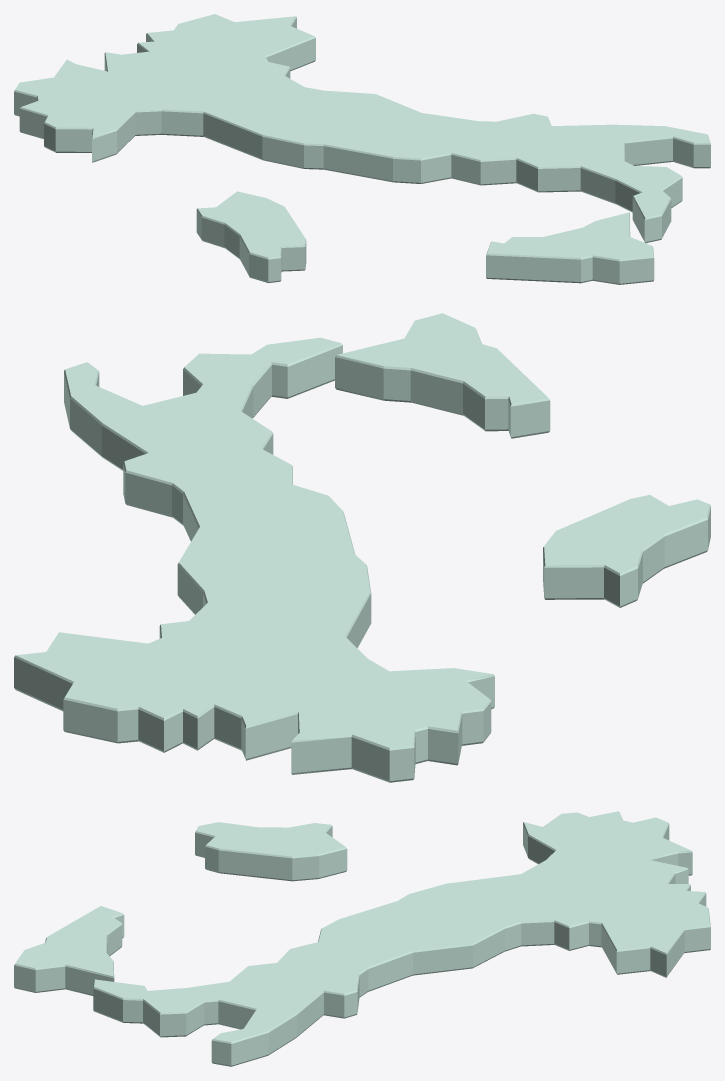
File: ITA.glb
The picture shows the model from 3 angles, top to bottom: view 1: azimuth 30°, elevation 25°; view 2: azimuth 150°, elevation 25°; view 3: azimuth 270°, elevation 25°; orthographic projection. The views are drawn at different scales.
Size of the model in its own units: 1.37 by 0.068 by 1.74.
